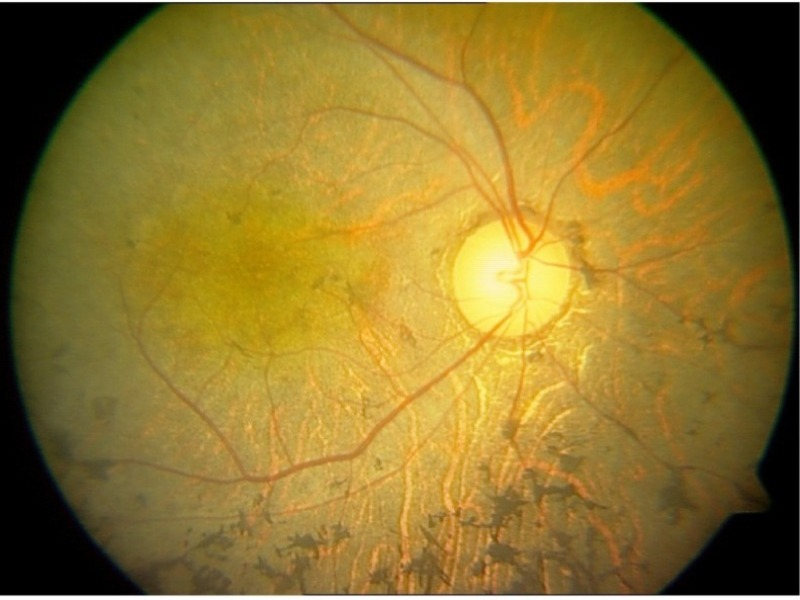Optic Cup: (454, 219, 570, 337)
Optic Disc: (438, 208, 584, 346)
